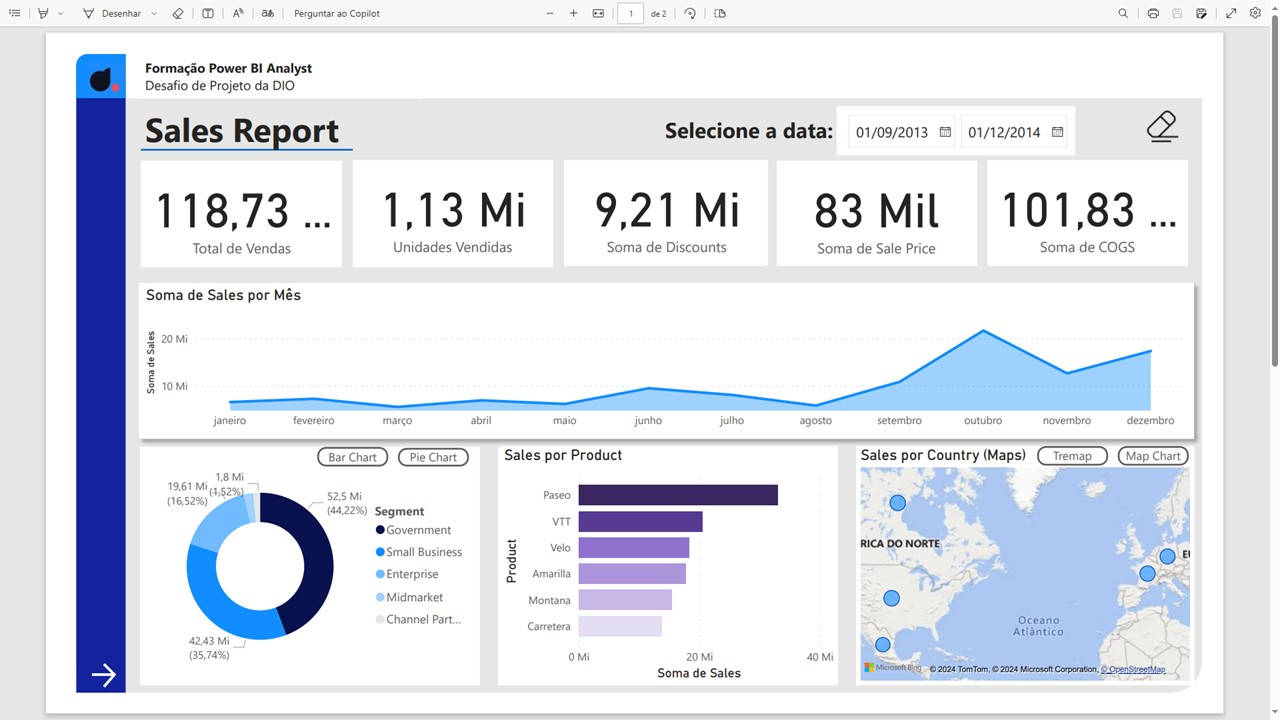

The dashboard page shown, as its layout file describes it:
{"tool":"powerbi","page":{"name":"Página 1","canvas":[1280,720],"ordinal":0},"visuals":[{"type":"shape","box":[9.7,0,1270.3,719.8],"z":0},{"type":"image","title":"Borracha","box":[1207.1,49.3,57.1,64.3],"z":0,"group":"g3"},{"type":"shape","title":"UnderTitulo","box":[83.2,101.6,238.9,12.1],"z":0,"group":"g6"},{"type":"shape","box":[83.3,121,226.2,119.3],"z":0,"group":"g1"},{"type":"donutChart","title":"Sales x Segment (Donuts)","fields":{"Category":["financials.Segment"],"Y":["Sum(financials. Sales)"]},"box":[83.2,443.2,381,268.9],"z":0,"group":"g4"},{"type":"shape","box":[486,443.3,382.5,268.9],"z":0,"group":"g2"},{"type":"shape","box":[9.7,0,56.4,719.8],"z":1000},{"type":"textbox","title":"Título","box":[83,54,266,59],"z":1000,"group":"g6"},{"type":"slicer","fields":{"Values":["financials.Date"]},"box":[868.7,58.6,268.7,55.6],"z":1000,"group":"g3"},{"type":"shape","box":[322.4,121,225.4,119.3],"z":1000,"group":"g1"},{"type":"map","title":"Sales por Country (Maps)","fields":{"Category":["financials.Country"],"Size":["Sum(financials. Sales)"]},"box":[889.9,442.4,380.8,268.7],"z":1000,"group":"g5"},{"type":"shape","box":[889.7,443.3,382.5,268.9],"z":1000,"group":"g2"},{"type":"shape","box":[9.7,0,56.4,49.6],"z":2000},{"type":"textbox","title":"Subtítulo","box":[82.7,0,317.1,49.6],"z":2000,"group":"g6"},{"type":"textbox","box":[658.3,63.9,210.6,43.9],"z":2000,"group":"g3"},{"type":"shape","box":[560.7,120,226.2,119.3],"z":2000,"group":"g1"},{"type":"actionButton","title":"BotãoTreMap","box":[1094.1,442.3,80,22],"z":2000,"group":"g5"},{"type":"shape","box":[82.2,443.3,382.5,268.9],"z":2000,"group":"g2"},{"type":"actionButton","title":"BotãoBarChart","box":[282.2,443.3,80,22.2],"z":2000,"group":"g4"},{"type":"shape","box":[66.1,0,1213.9,49.6],"z":3000},{"type":"actionButton","title":"Clean","box":[1207,49.1,56.9,63.9],"z":3000,"group":"g3"},{"type":"shape","box":[799.9,120.6,226.1,118.9],"z":3000,"group":"g1"},{"type":"actionButton","title":"BotãoMap","box":[1184.4,442.2,80,21.7],"z":3000,"group":"g5"},{"type":"actionButton","title":"BotãoPieChart","box":[372.8,443.9,80,21.7],"z":3000,"group":"g4"},{"type":"image","title":"LogoDio","box":[15,4.8,56.5,49.5],"z":4000},{"type":"shape","box":[1038.5,120.6,226.1,118.9],"z":4000,"group":"g1"},{"type":"group","id":"g1","title":"Cartões","box":[83.3,120,1181.3,120.3],"z":5000},{"type":"card","fields":{"Values":["Sum(financials.COGS)"]},"box":[1038.4,120.2,226.3,118.2],"z":5000,"group":"g1"},{"type":"card","fields":{"Values":["Sum(financials.Sale Price)"]},"box":[800,121.2,226.3,118.2],"z":6000,"group":"g1"},{"type":"group","id":"g2","title":"Caixotes","box":[82.2,443.3,1190,268.9],"z":6000},{"type":"card","fields":{"Values":["Sum(financials.Units Sold)"]},"box":[322.2,120.2,226.3,118.2],"z":7000,"group":"g1"},{"type":"shape","box":[72.2,248.9,1207.8,194.4],"z":7000},{"type":"card","fields":{"Values":["Sum(financials. Sales)"]},"box":[83.8,121.2,226.3,118.2],"z":8000,"group":"g1"},{"type":"areaChart","fields":{"Category":["financials.Date.Variation.Hierarquia de datas.Mês"],"Y":["Sum(financials. Sales)"]},"box":[83.8,260.6,1180.8,170.7],"z":8000},{"type":"group","id":"g3","title":"FiltroData","box":[658.3,49.1,606,65.1],"z":9000},{"type":"card","fields":{"Values":["Sum(financials.Discounts)"]},"box":[563.6,120.2,226.3,118.2],"z":9000,"group":"g1"},{"type":"clusteredBarChart","title":"Sales por Product","fields":{"Y":["Sum(financials. Sales)"],"Category":["financials.Product"]},"box":[487.9,442.4,380.8,268.7],"z":10000},{"type":"group","id":"g4","title":"Sales Segment","box":[83.2,443.2,381.4,268.9],"z":11000},{"type":"group","id":"g5","title":"Sales por Country","box":[889.9,442.2,382.8,269],"z":12000},{"type":"group","id":"g6","title":"Título","box":[82.7,0,317.1,113.7],"z":13000},{"type":"actionButton","box":[21.9,679.7,36.8,40.3],"z":14000}]}

Visuals, with their boxes on the page's 1280x720 design canvas (x1, y1, x2, y2). These are canvas units, not pixel positions in the 1280x720 screenshot, which may show the page scaled, cropped or inside an application window:
shape: 10, 0, 1280, 720
"Borracha" image: 1207, 49, 1264, 114
"UnderTitulo" shape: 83, 102, 322, 114
shape: 83, 121, 310, 240
"Sales x Segment (Donuts)" donutChart: 83, 443, 464, 712
shape: 486, 443, 868, 712
shape: 10, 0, 66, 720
"Título" textbox: 83, 54, 349, 113
slicer - financials.Date: 869, 59, 1137, 114
shape: 322, 121, 548, 240
"Sales por Country (Maps)" map: 890, 442, 1271, 711
shape: 890, 443, 1272, 712
shape: 10, 0, 66, 50
"Subtítulo" textbox: 83, 0, 400, 50
textbox: 658, 64, 869, 108
shape: 561, 120, 787, 239
"BotãoTreMap" actionButton: 1094, 442, 1174, 464
shape: 82, 443, 465, 712
"BotãoBarChart" actionButton: 282, 443, 362, 466
shape: 66, 0, 1280, 50
"Clean" actionButton: 1207, 49, 1264, 113
shape: 800, 121, 1026, 240
"BotãoMap" actionButton: 1184, 442, 1264, 464
"BotãoPieChart" actionButton: 373, 444, 453, 466
"LogoDio" image: 15, 5, 72, 54
shape: 1038, 121, 1265, 240
"Cartões" group: 83, 120, 1265, 240
card - Sum(financials.COGS): 1038, 120, 1265, 238
card - Sum(financials.Sale Price): 800, 121, 1026, 239
"Caixotes" group: 82, 443, 1272, 712
card - Sum(financials.Units Sold): 322, 120, 548, 238
shape: 72, 249, 1280, 443
card - Sum(financials. Sales): 84, 121, 310, 239
areaChart - financials.Date.Variation.Hierarquia de datas.Mês x Sum(financials. Sales): 84, 261, 1265, 431
"FiltroData" group: 658, 49, 1264, 114
card - Sum(financials.Discounts): 564, 120, 790, 238
"Sales por Product" clusteredBarChart: 488, 442, 869, 711
"Sales Segment" group: 83, 443, 465, 712
"Sales por Country" group: 890, 442, 1273, 711
"Título" group: 83, 0, 400, 114
actionButton: 22, 680, 59, 720
